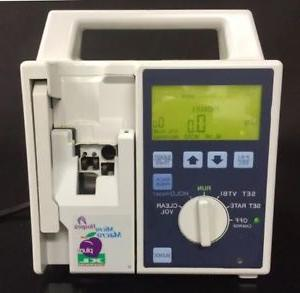plumxl1: (19, 10, 283, 279)
